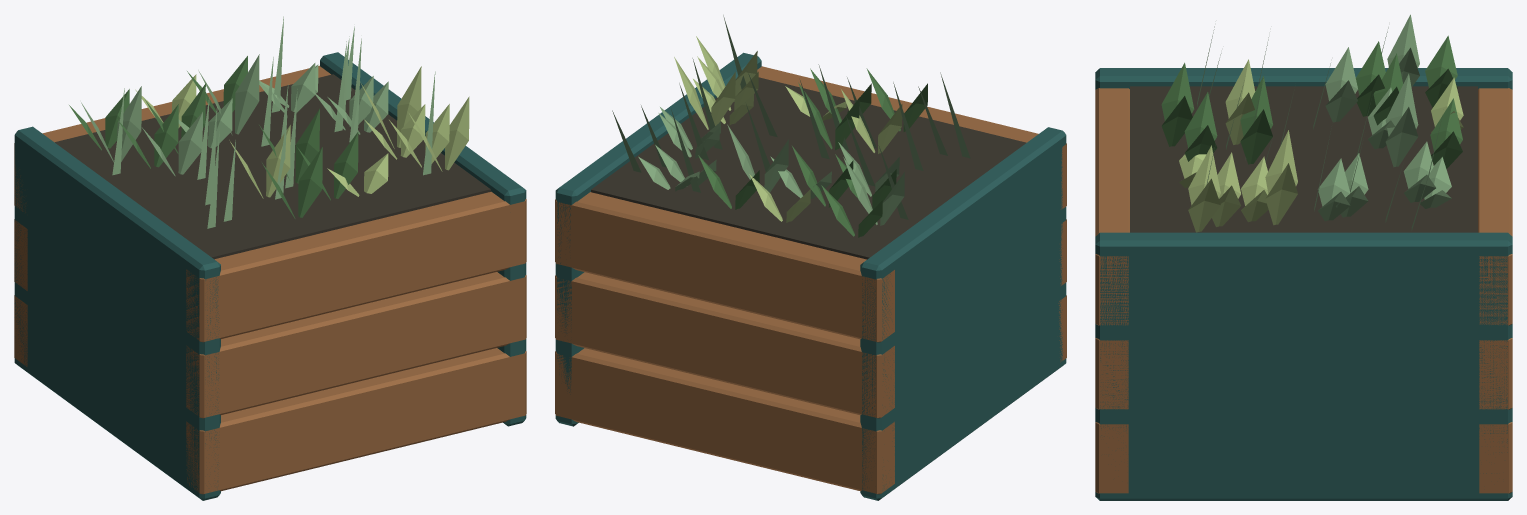
The model's file is kit_cover_planter.glb.
3 views of the same model, side by side, from view 1: azimuth 30°, elevation 25°; view 2: azimuth 150°, elevation 25°; view 3: azimuth 270°, elevation 25° (orthographic). The views are drawn at different scales.
Parts seen in each view (by area): view 1: kit_cover_planter_mesh; view 2: kit_cover_planter_mesh; view 3: kit_cover_planter_mesh.
Boxes of the visible parts, bbox=[...] form: kit_cover_planter_mesh: bbox=[14, 16, 526, 500]; kit_cover_planter_mesh: bbox=[555, 15, 1066, 500]; kit_cover_planter_mesh: bbox=[1095, 14, 1512, 500].
Bounding box in the file's own units: 0.9 × 0.8505 × 0.9.
